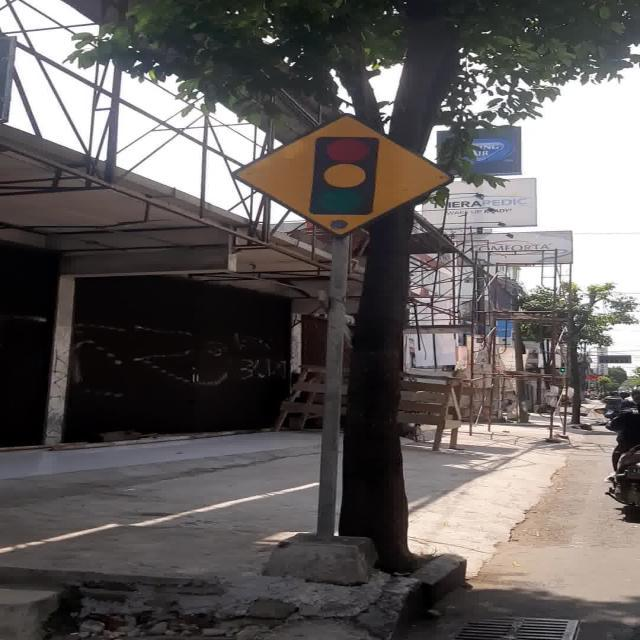Lampu Lalu Lintas: (231, 114, 453, 238)
